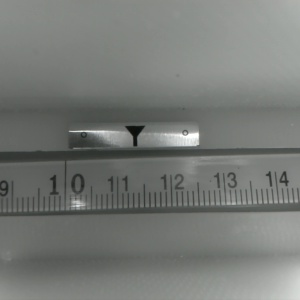0: (70, 174, 85, 194)
1: (49, 174, 59, 195), (121, 176, 128, 192), (265, 171, 272, 187), (160, 174, 167, 190), (107, 176, 113, 192), (213, 173, 219, 188)
2: (174, 174, 183, 190)
3: (226, 172, 236, 188)
4: (278, 171, 289, 186)
9: (0, 180, 9, 197)
finger: (122, 125, 145, 147)
